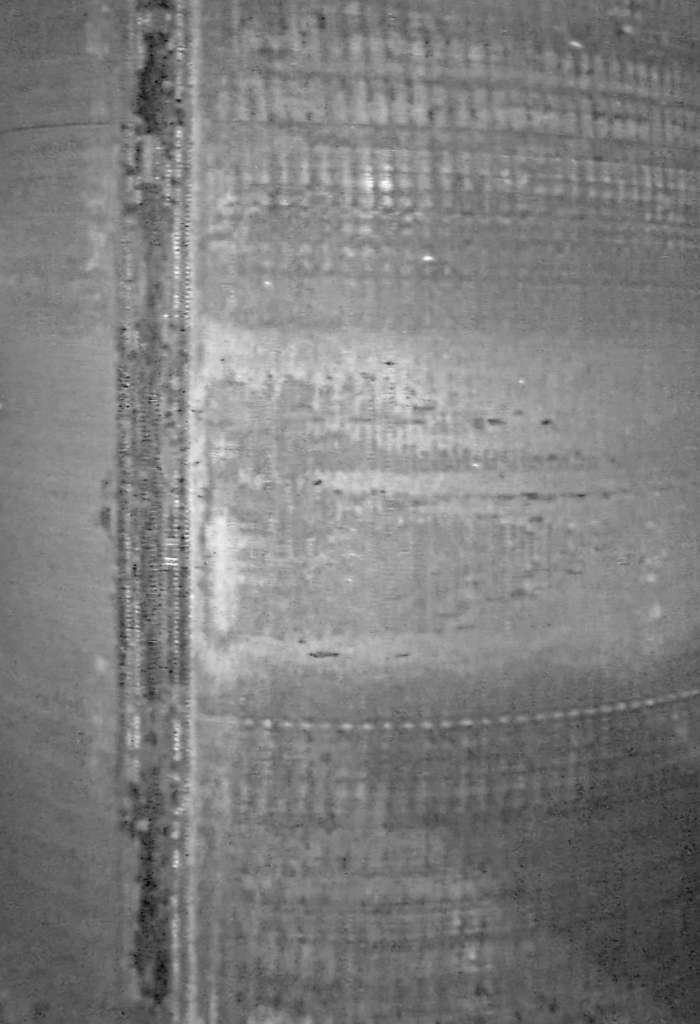splice: (114, 1, 210, 1021)
